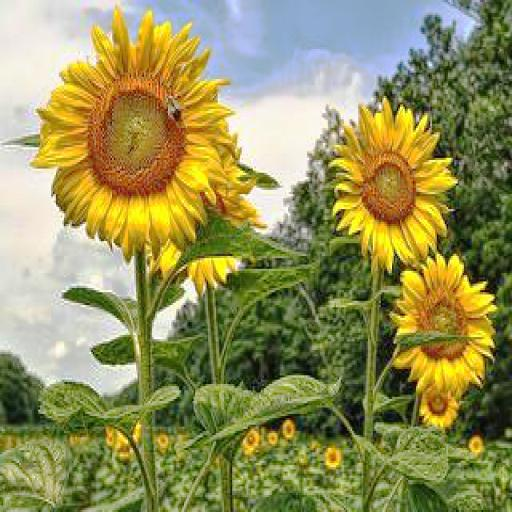sunflower: (38, 9, 242, 260), (332, 100, 454, 258), (398, 254, 496, 388), (421, 382, 459, 427)
